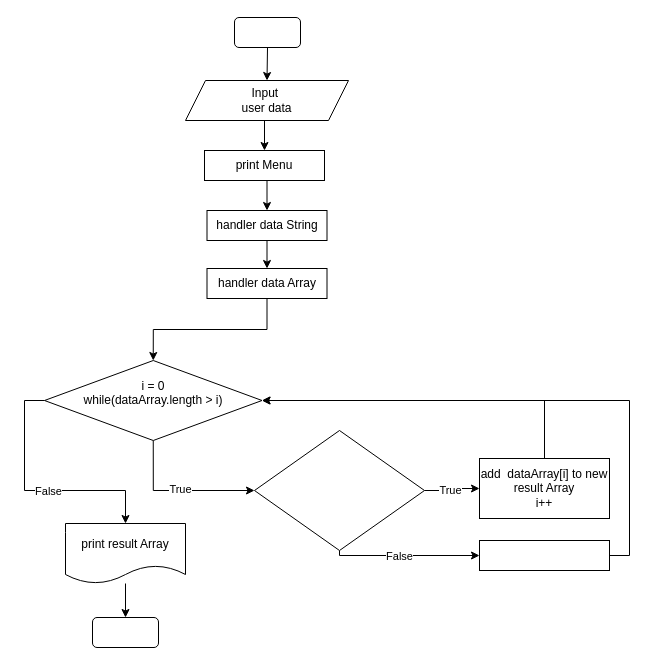
Some shapes in this 655 by 665 pixel diagram are drawn without their labels. The box of each missing label's shape, as (x1, y1, x2, y2) in pixels:
finish: (92, 616, 158, 648)
i++: (478, 540, 610, 570)
if (dataArray[i].length <= 3): (254, 430, 424, 550)
start: (234, 16, 300, 48)
